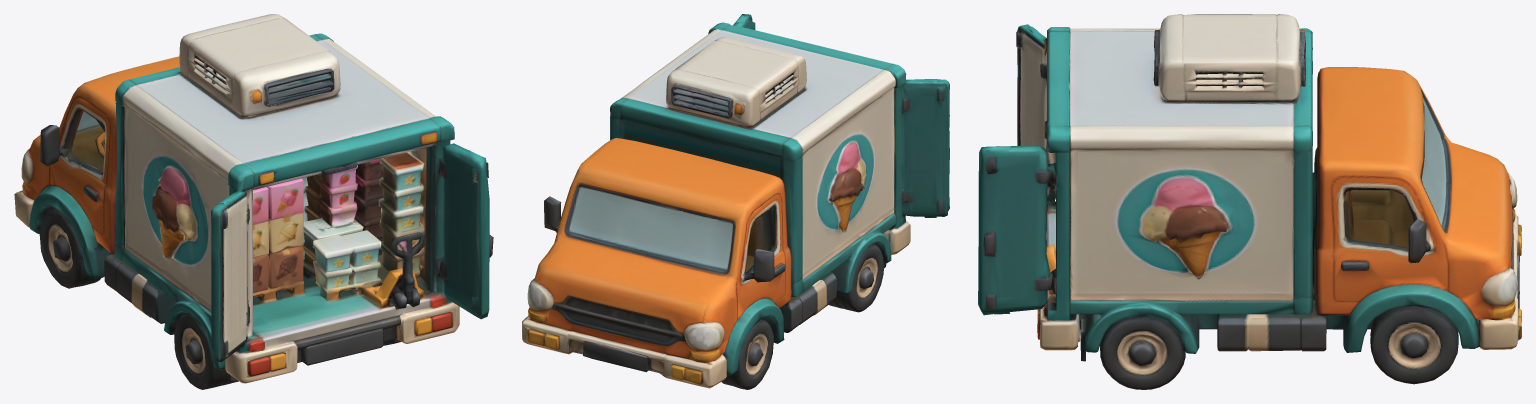
Rendered from IceCreamTruck.fbx.
The picture shows the model from 3 angles, left to right: view 1: azimuth 30°, elevation 25°; view 2: azimuth 150°, elevation 25°; view 3: azimuth 270°, elevation 25°; orthographic projection. The views are drawn at different scales.
Parts seen in each view (by area): view 1: tripo_node_1a5378fa-b3db-471f-b49b-e332bf9cd14f; view 2: tripo_node_1a5378fa-b3db-471f-b49b-e332bf9cd14f; view 3: tripo_node_1a5378fa-b3db-471f-b49b-e332bf9cd14f.
Boxes of the visible parts, bbox=[...] form: tripo_node_1a5378fa-b3db-471f-b49b-e332bf9cd14f: bbox=[14, 14, 493, 389]; tripo_node_1a5378fa-b3db-471f-b49b-e332bf9cd14f: bbox=[522, 14, 949, 389]; tripo_node_1a5378fa-b3db-471f-b49b-e332bf9cd14f: bbox=[978, 14, 1521, 389].
Bounding box in the file's own units: 60.24 × 59.41 × 98.02.
1 material, 1 textured.
